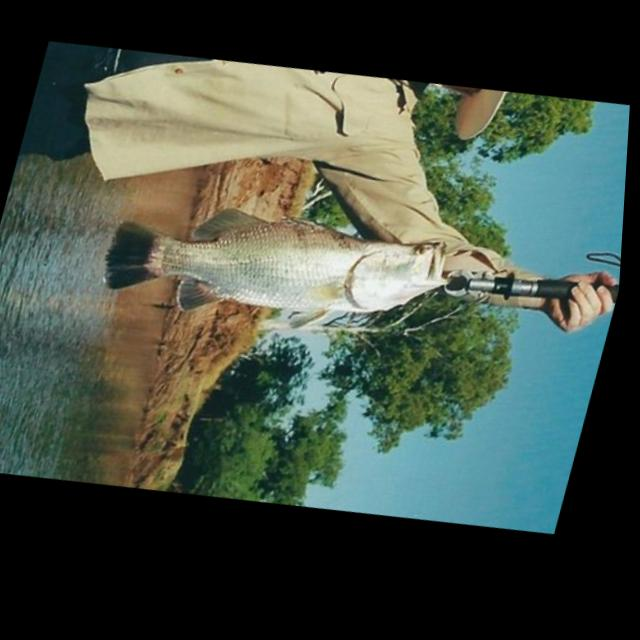Seabass: (88, 161, 470, 381)
